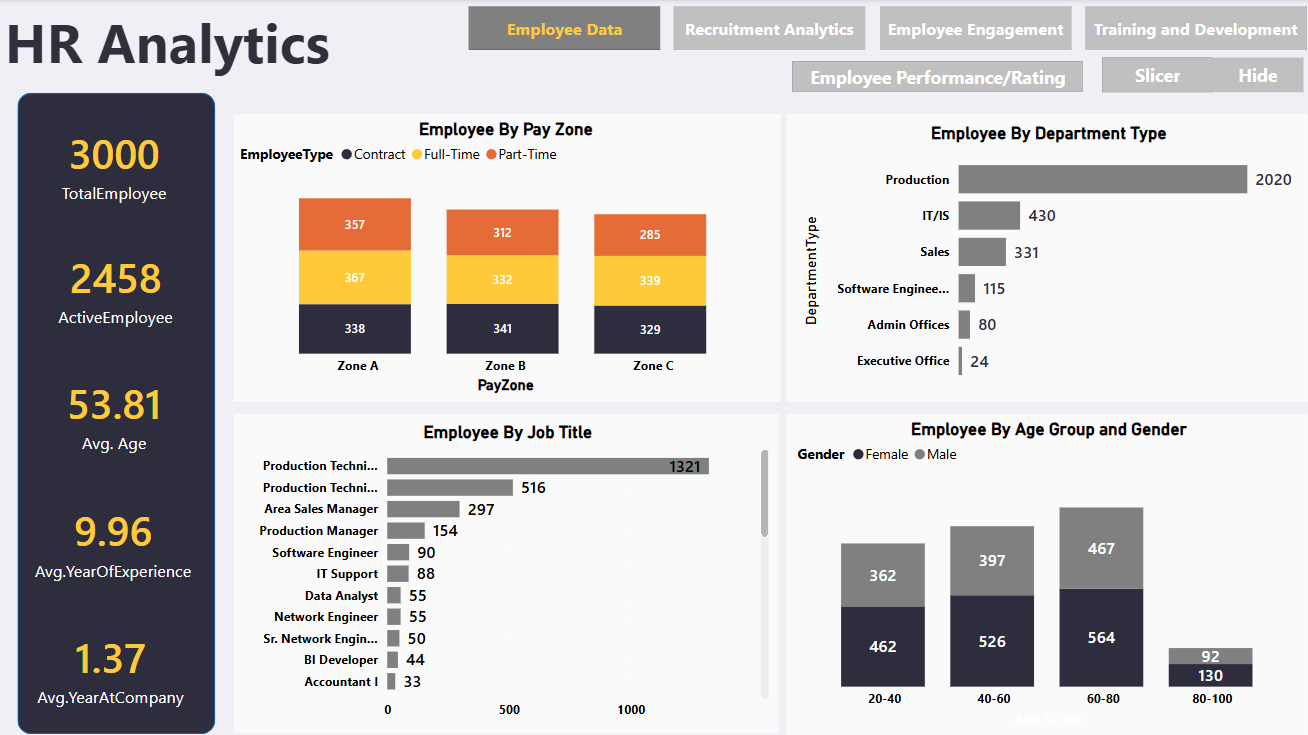

The dashboard page shown, as its layout file describes it:
{"tool":"powerbi","page":{"name":"Page 1","canvas":[1280,720],"ordinal":0},"visuals":[{"type":"actionButton","box":[1061.5,7.6,216.4,42.8],"z":0,"group":"g2"},{"type":"actionButton","box":[1186.3,57.5,88.7,33.7],"z":0,"group":"g4"},{"type":"shape","box":[228.7,406,533.2,313],"z":0},{"type":"actionButton","box":[860.5,7.6,187.1,42.8],"z":1000,"group":"g2"},{"type":"actionButton","box":[1078.8,57.5,107.5,33.7],"z":1000,"group":"g4"},{"type":"card","title":"Average Stay At Company","fields":{"Values":["employee_data.Avg.YearAtCompany"]},"box":[18.9,603.4,180,100],"z":1000,"group":"g1"},{"type":"actionButton","box":[659.6,7.6,187.1,42.8],"z":2000,"group":"g2"},{"type":"shape","box":[228.4,113,535,281.8],"z":2000},{"type":"card","title":"Average Age","fields":{"Values":["employee_data.Avg. Age"]},"box":[22.6,356.1,180,100],"z":2000,"group":"g1"},{"type":"actionButton","box":[458,7.4,187.4,42.2],"z":3000,"group":"g3"},{"type":"card","title":"ActiveEmployee","fields":{"Values":["employee_data.ActiveEmployee"]},"box":[23.6,232.5,180,100],"z":3000,"group":"g1"},{"type":"shape","box":[769.6,405.9,510.2,315.3],"z":3000},{"type":"shape","box":[769.6,113,510.2,281.8],"z":4000},{"type":"card","title":"Average Experience","fields":{"Values":["recruitment_data.Avg.YearOfExperience"]},"box":[21.3,479.8,180,100],"z":4000,"group":"g1"},{"type":"shape","box":[16.7,91.8,193.4,627.5],"z":5000},{"type":"columnChart","title":"Employee By Age Group and Gender","fields":{"Category":["employee_data.Age Group"],"Y":["employee_data.TotalEmployee"],"Series":["employee_data.GenderCode"]},"box":[776.2,411.1,501.5,305.4],"z":7000,"group":"g1"},{"type":"barChart","title":"Employee By Department Type","fields":{"Y":["employee_data.TotalEmployee"],"Category":["employee_data.DepartmentType"]},"box":[781.1,120.5,491.5,266.9],"z":8000,"group":"g1"},{"type":"group","id":"g1","title":"Employee Data","box":[18.9,56,1261,664.1],"z":9000},{"type":"barChart","title":"Employee By Job Title","fields":{"Category":["employee_data.Title"],"Y":["employee_data.TotalEmployee"]},"box":[236.1,413.5,521.3,300.4],"z":9000,"group":"g1"},{"type":"group","id":"g2","title":"Tables Button Light","box":[458.6,7.6,819.3,42.8],"z":10000},{"type":"columnChart","title":"Employee By Pay Zone","fields":{"Category":["employee_data.PayZone"],"Y":["employee_data.TotalEmployee"],"Series":["employee_data.EmployeeType"]},"box":[229.9,116.8,530,273.1],"z":10000,"group":"g1"},{"type":"group","id":"g3","title":"Tables Button Dark","box":[458,7.4,821.2,42.8],"z":11000},{"type":"actionButton","title":"Per/Rating Dark","box":[775.9,61,284.3,29.8],"z":11000,"group":"g1"},{"type":"textbox","box":[0,0,344.4,90.2],"z":12000},{"type":"actionButton","title":"Per/Rating Light","box":[775.9,61,284.3,29.8],"z":12000,"group":"g1"},{"type":"card","title":"Total Employee","fields":{"Values":["employee_data.TotalEmployee"]},"box":[22,111.3,179.8,100],"z":13000},{"type":"group","id":"g4","title":"Slicer dark","box":[1078.8,57.5,196.1,33.5],"z":17000,"group":"g1"},{"type":"actionButton","box":[1079,57.2,108,33.5],"z":18000,"group":"g1"}]}

Visuals, with their boxes in screenshot pixels (x1, y1, x2, y2), scaled from the page's 1280x720 canvas onto the 1308x735 screenshot:
actionButton: l=1085, t=8, r=1306, b=51
actionButton: l=1212, t=59, r=1303, b=93
shape: l=234, t=414, r=779, b=734
actionButton: l=879, t=8, r=1071, b=51
actionButton: l=1102, t=59, r=1212, b=93
"Average Stay At Company" card: l=19, t=616, r=203, b=718
actionButton: l=674, t=8, r=865, b=51
shape: l=233, t=115, r=780, b=403
"Average Age" card: l=23, t=364, r=207, b=466
actionButton: l=468, t=8, r=660, b=51
"ActiveEmployee" card: l=24, t=237, r=208, b=339
shape: l=786, t=414, r=1307, b=734
shape: l=786, t=115, r=1307, b=403
"Average Experience" card: l=22, t=490, r=206, b=592
shape: l=17, t=94, r=215, b=734
"Employee By Age Group and Gender" columnChart: l=793, t=420, r=1306, b=731
"Employee By Department Type" barChart: l=798, t=123, r=1300, b=395
"Employee Data" group: l=19, t=57, r=1307, b=734
"Employee By Job Title" barChart: l=241, t=422, r=774, b=729
"Tables Button Light" group: l=469, t=8, r=1306, b=51
"Employee By Pay Zone" columnChart: l=235, t=119, r=777, b=398
"Tables Button Dark" group: l=468, t=8, r=1307, b=51
"Per/Rating Dark" actionButton: l=793, t=62, r=1083, b=93
textbox: l=0, t=0, r=352, b=92
"Per/Rating Light" actionButton: l=793, t=62, r=1083, b=93
"Total Employee" card: l=22, t=114, r=206, b=216
"Slicer dark" group: l=1102, t=59, r=1303, b=93
actionButton: l=1103, t=58, r=1213, b=93
